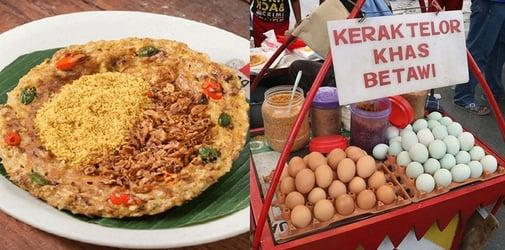kerak_telor: (1, 39, 247, 220)
